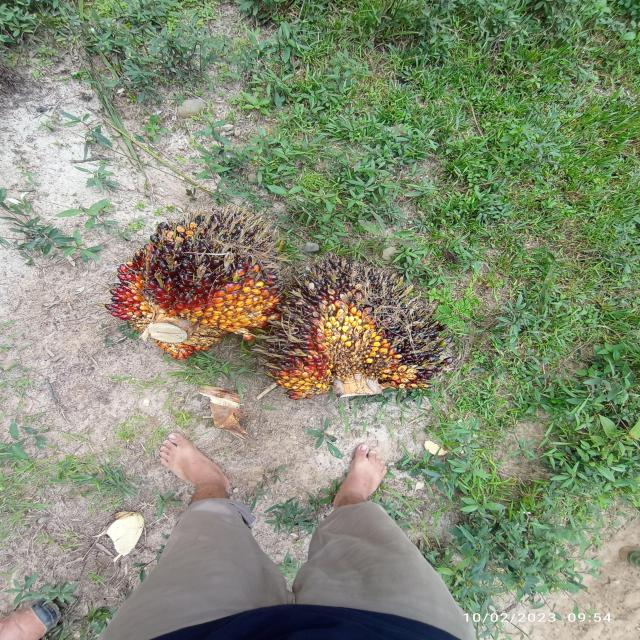fraksi 00: (78, 192, 285, 376), (260, 234, 459, 416)
